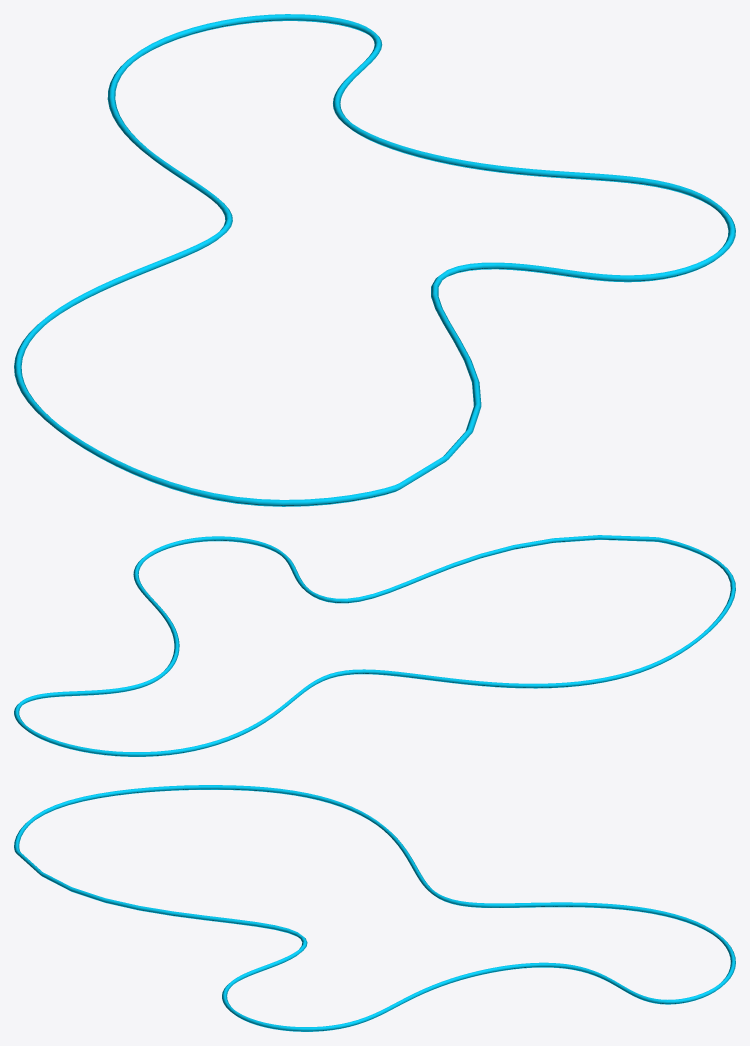
Rendered from Waves.glb.
The picture shows the model from 3 angles, top to bottom: view 1: azimuth 30°, elevation 25°; view 2: azimuth 150°, elevation 25°; view 3: azimuth 270°, elevation 25°; orthographic projection. The views are drawn at different scales.
Parts seen in each view (by area): view 1: NurbsPath.016; view 2: NurbsPath.016; view 3: NurbsPath.016.
Part boxes in pixels (<box>): NurbsPath.016: <box>14,14,735,506</box>; NurbsPath.016: <box>14,535,735,756</box>; NurbsPath.016: <box>14,785,735,1031</box>.
Bounding box in the file's own units: 62.42 × 0.568 × 77.97.
